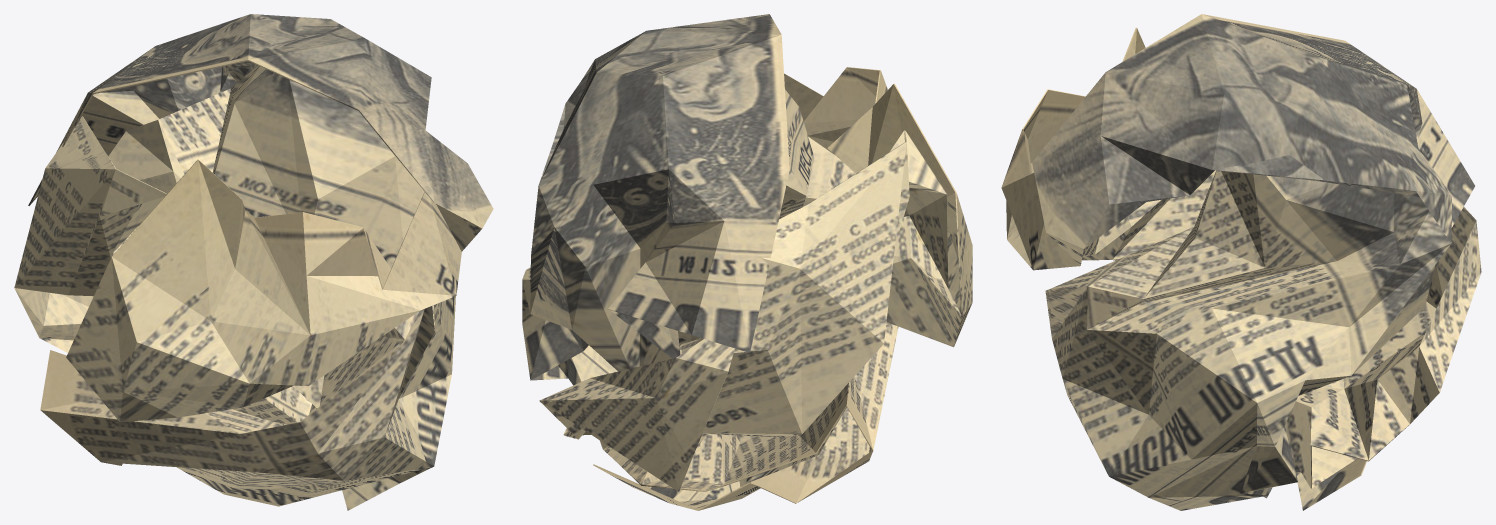
The model's file is paper.FBX.
3 views of the same model, side by side, from view 1: azimuth 30°, elevation 25°; view 2: azimuth 150°, elevation 25°; view 3: azimuth 270°, elevation 25° (orthographic). The views are drawn at different scales.
Visible parts, largest first — view 1: Plane001; view 2: Plane001; view 3: Plane001.
Boxes of the visible parts, x1,y1,x2,y2 form: Plane001: (14, 14, 493, 510); Plane001: (522, 14, 972, 510); Plane001: (1001, 14, 1481, 510).
Size of the model in its own units: 5.42 by 5.7 by 5.45.
Materials: 1 (1 with a texture image).
